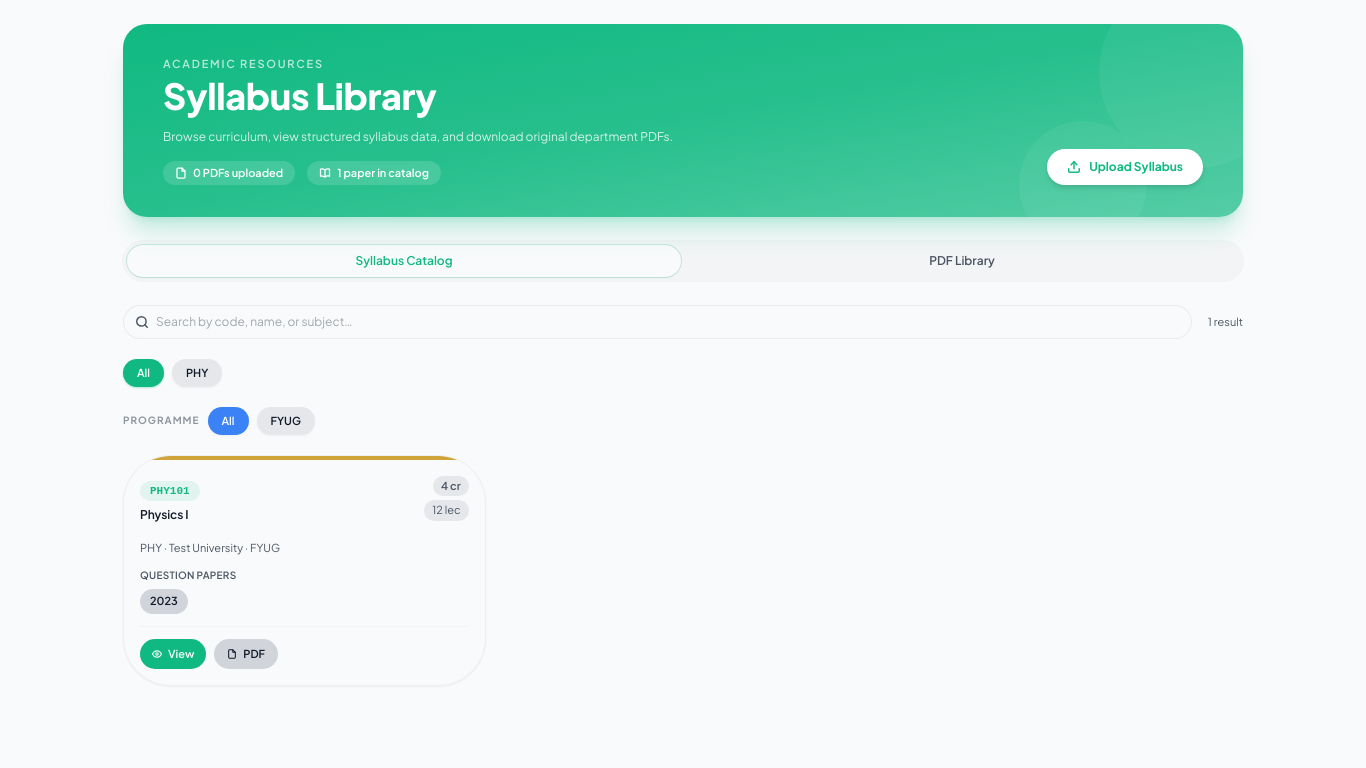
SyllabusCatalogClient › shows empty state when no papers match search
Check: the heading "Physics I" is shown, box [140, 507, 188, 522]
In the search field with placeholder "Search by code, name, or subject…": (657, 322) [123, 305, 1192, 339], type "ZZZNOTFOUND"
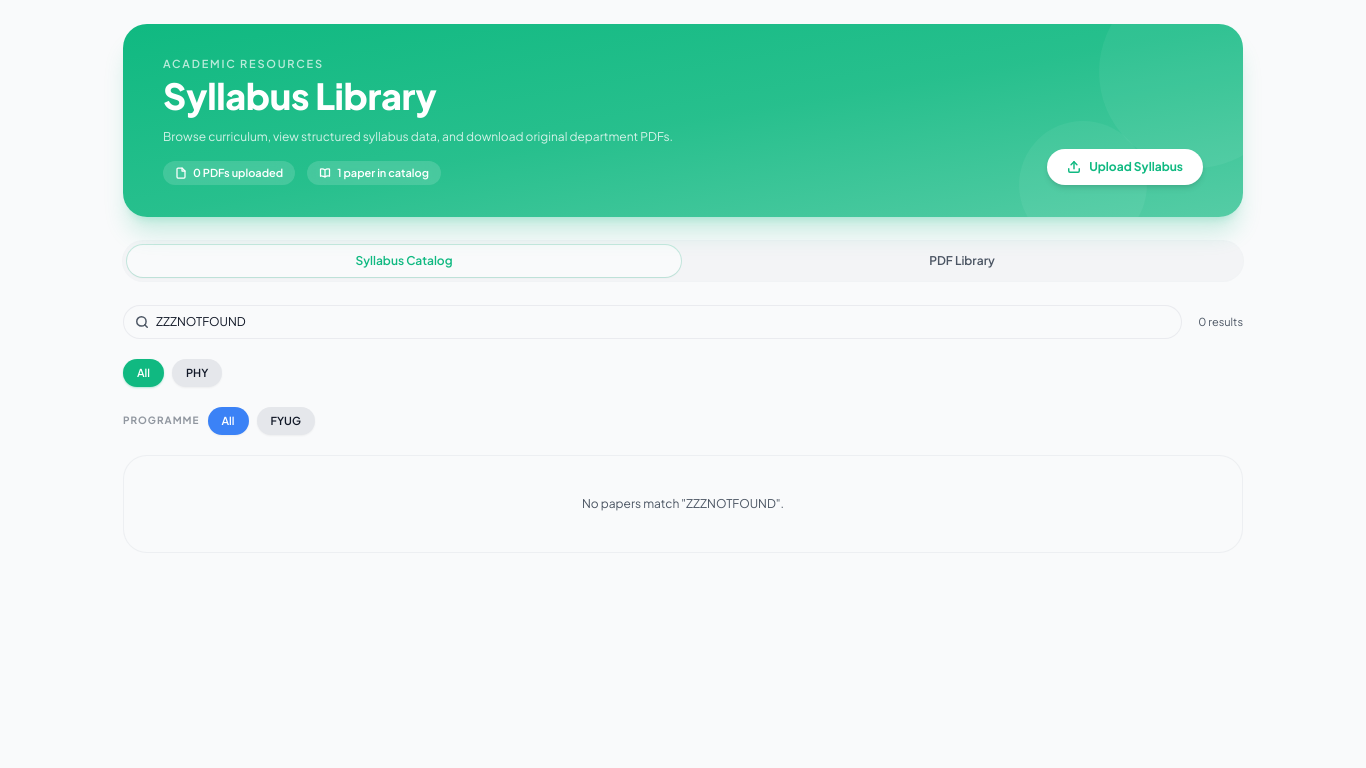
Check: the text "No papers match \"ZZZNOTFOUND\"." is shown, box [123, 455, 1243, 553]
